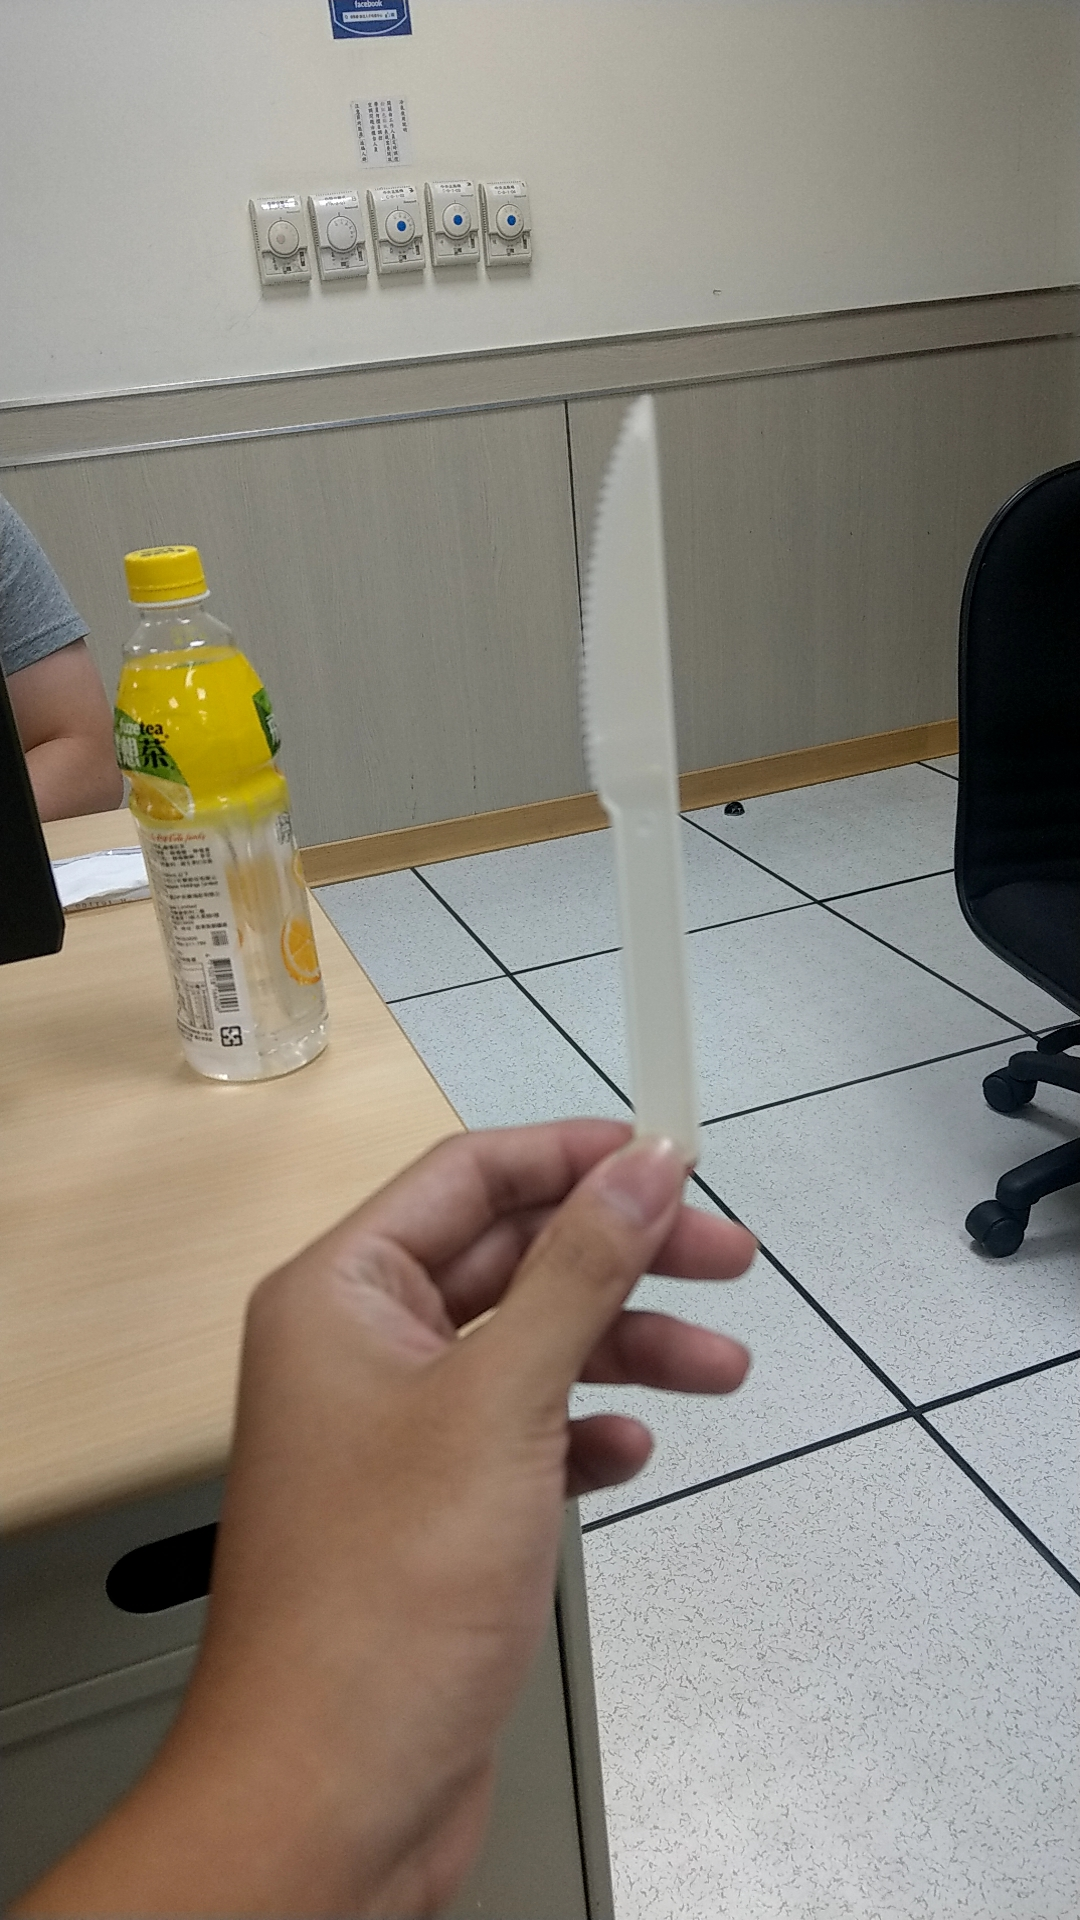knife: (550, 353, 790, 1168)
